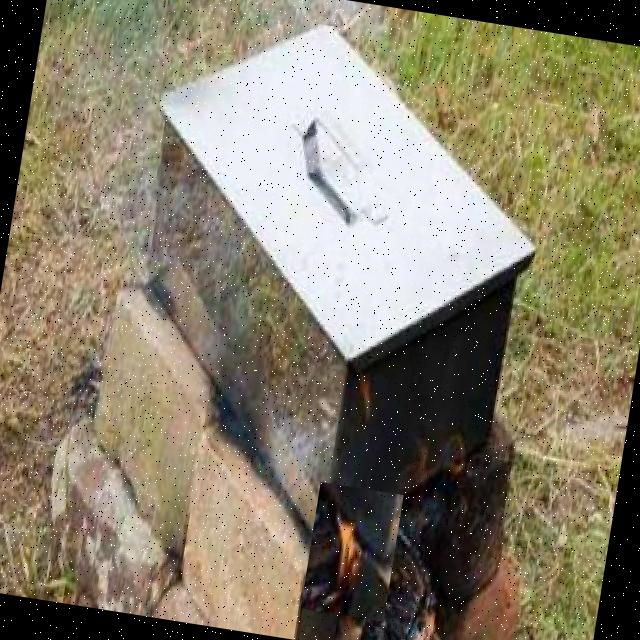fire: (301, 482, 404, 622)
